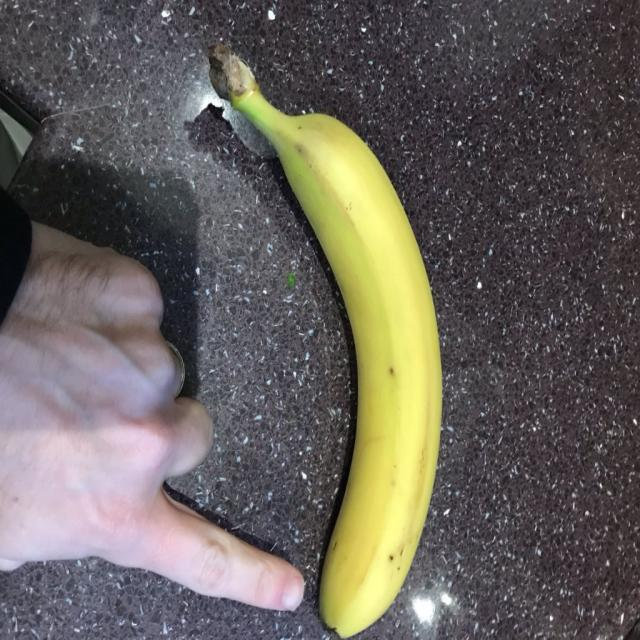Banana: (205, 49, 454, 640)
